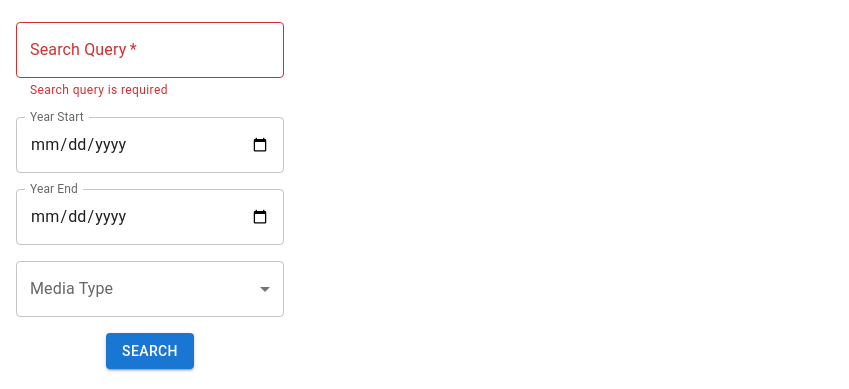
Test case: MediaLibrary Component › displays "No matching results found" when there are no results
# Simulate entering a search query
Type "nonexistent" into the field labelled "Search Query *" at (150, 50), box [16, 22, 284, 78]
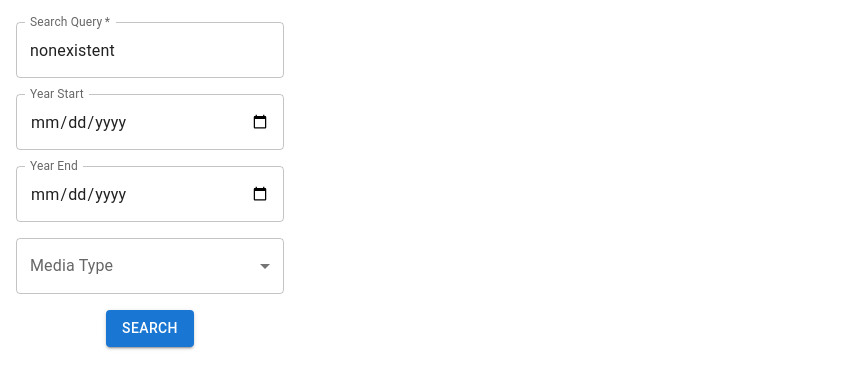
Click the button "Search" at (150, 328), box [106, 310, 194, 346]
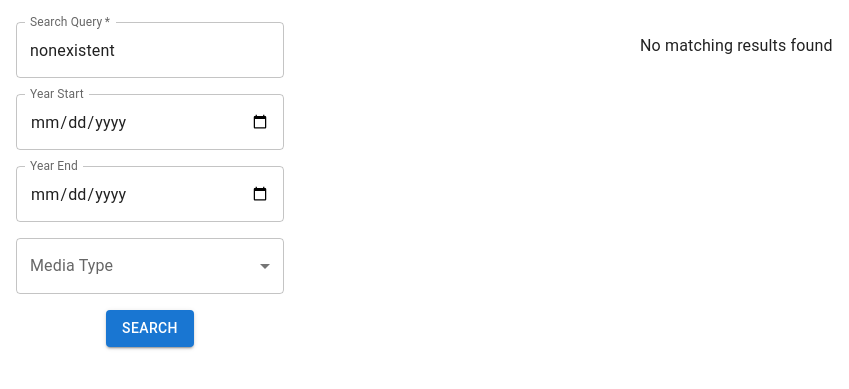
expect the text "No matching results found" is shown: met, box [640, 34, 833, 58]
